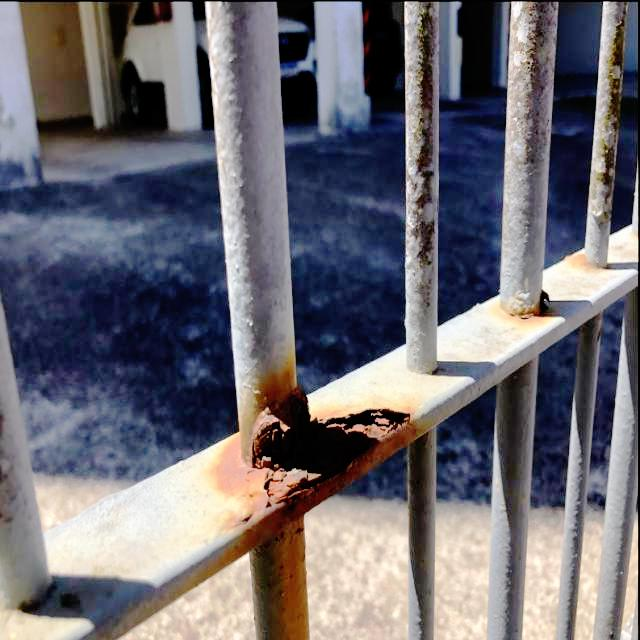Corrosion: (208, 376, 419, 560), (494, 289, 555, 323)
